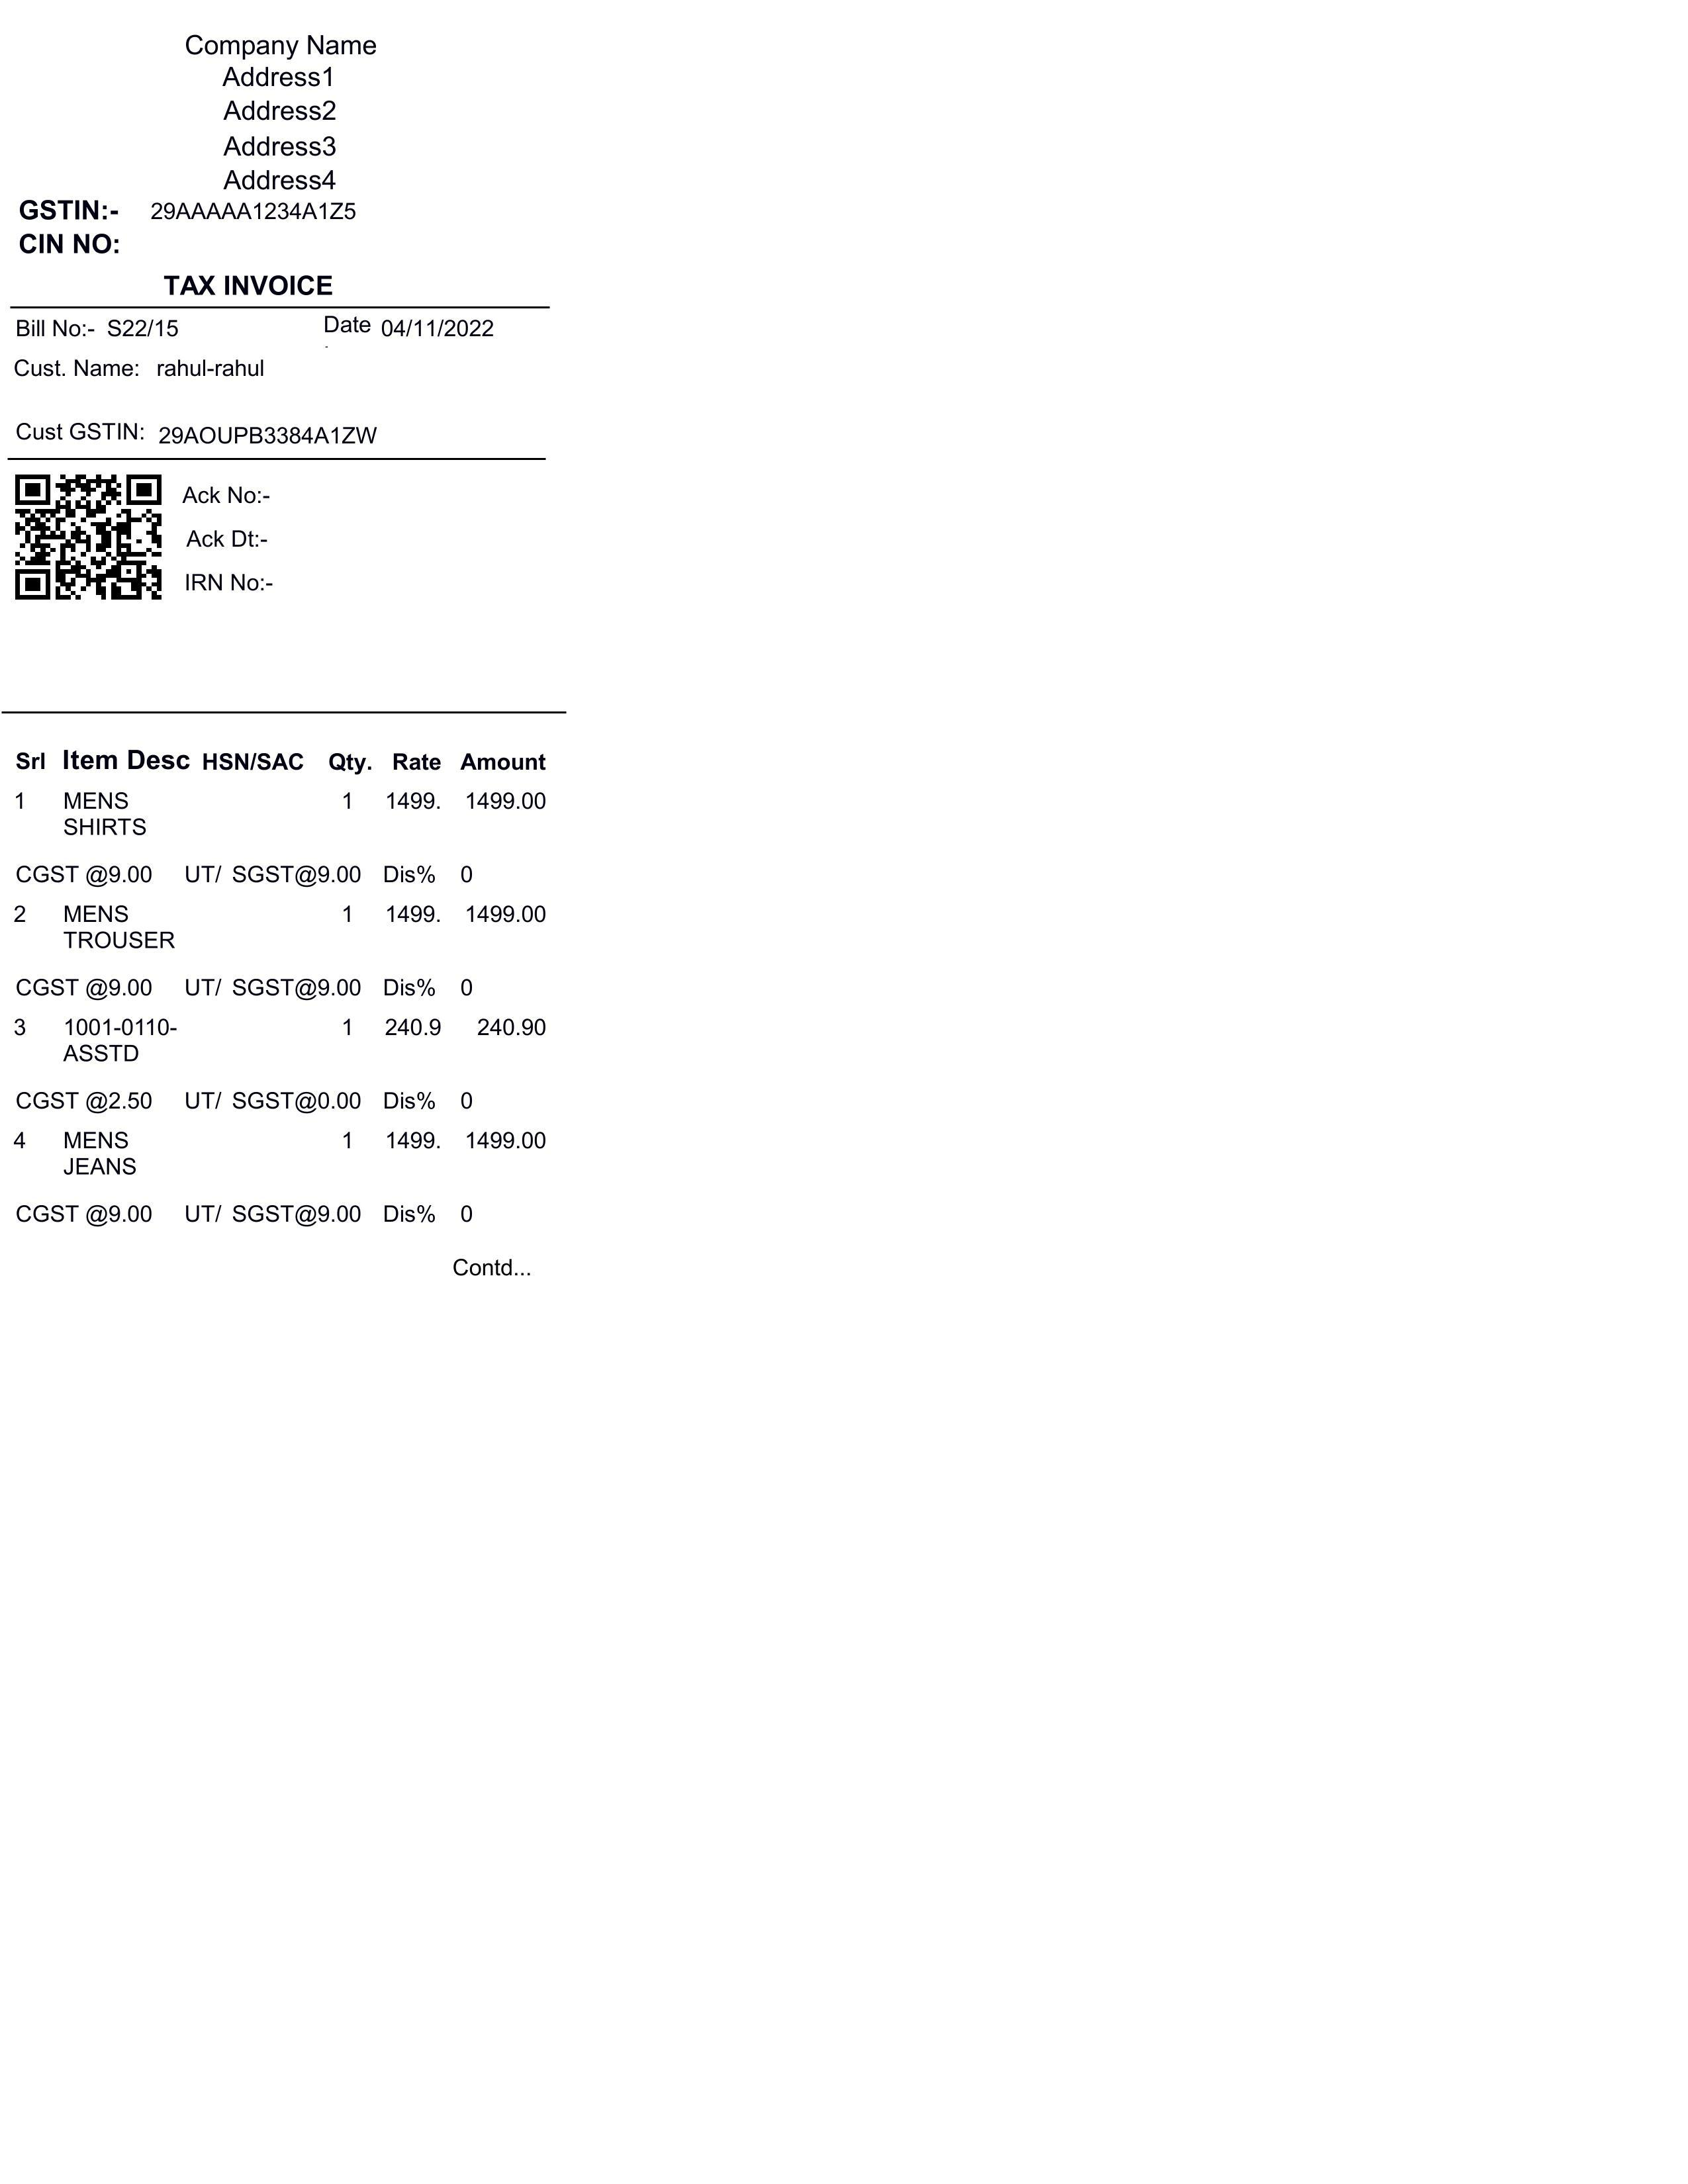InvoiceDate: (374, 307, 502, 353)
InvoiceNumber: (101, 314, 200, 351)
